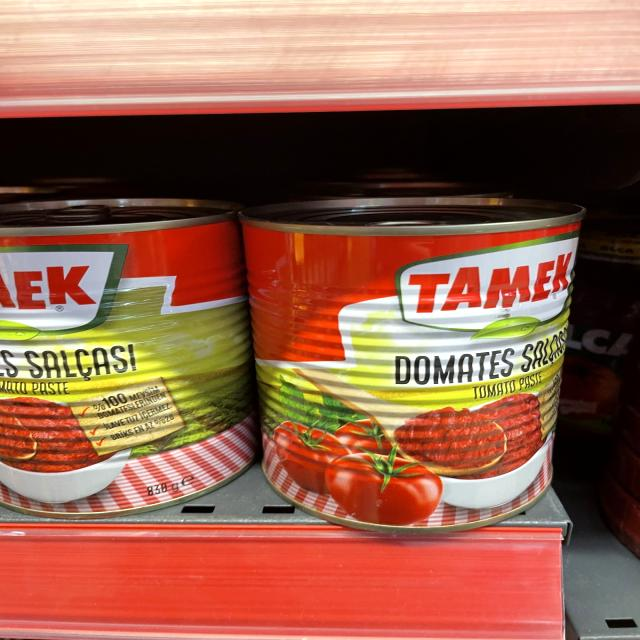tomato paste: (238, 187, 586, 528), (0, 185, 243, 520)
